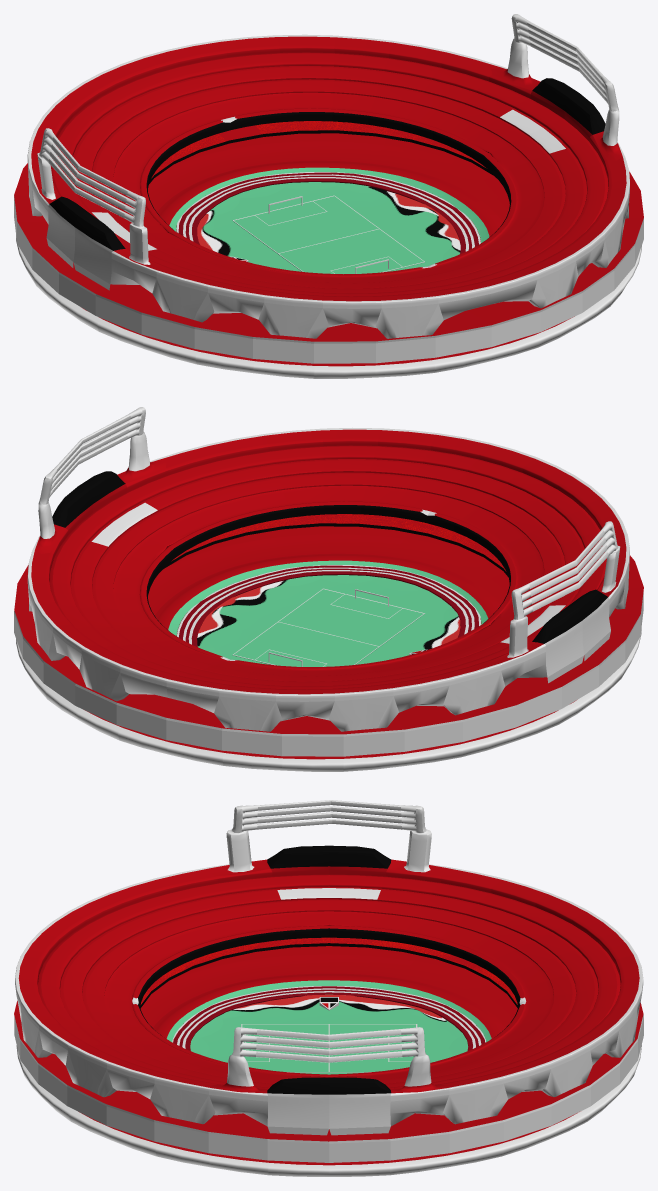
The model's file is morumba.fbx.
The picture shows the model from 3 angles, top to bottom: view 1: azimuth 30°, elevation 25°; view 2: azimuth 150°, elevation 25°; view 3: azimuth 270°, elevation 25°; orthographic projection. The views are drawn at different scales.
Parts seen in each view (by area): view 1: Cylinder.001, Cylinder.002, Cylinder.003, Cube, Cylinder; view 2: Cylinder.001, Cylinder.002, Cylinder.003, Cube, Cylinder; view 3: Cylinder.001, Cylinder.002, Cylinder.003, Cube, Cylinder.
Part boxes in pixels (x1,y1,x2,y2): Cylinder.001: [27, 14, 629, 338]; Cylinder.002: [16, 133, 641, 378]; Cylinder.003: [14, 121, 643, 363]; Cube: [232, 195, 424, 274]; Cylinder: [176, 172, 480, 253]; Cylinder.001: [27, 407, 629, 731]; Cylinder.002: [16, 526, 641, 771]; Cylinder.003: [14, 514, 643, 756]; Cube: [232, 588, 424, 666]; Cylinder: [176, 565, 481, 646]; Cylinder.001: [15, 800, 643, 1135]; Cylinder.002: [16, 946, 641, 1176]; Cylinder.003: [14, 937, 643, 1162]; Cube: [241, 1024, 417, 1072]; Cylinder: [172, 986, 485, 1050].
Bounding box in the file's own units: 2731 × 719 × 2850.
Materials: 15 (2 with a texture image).
